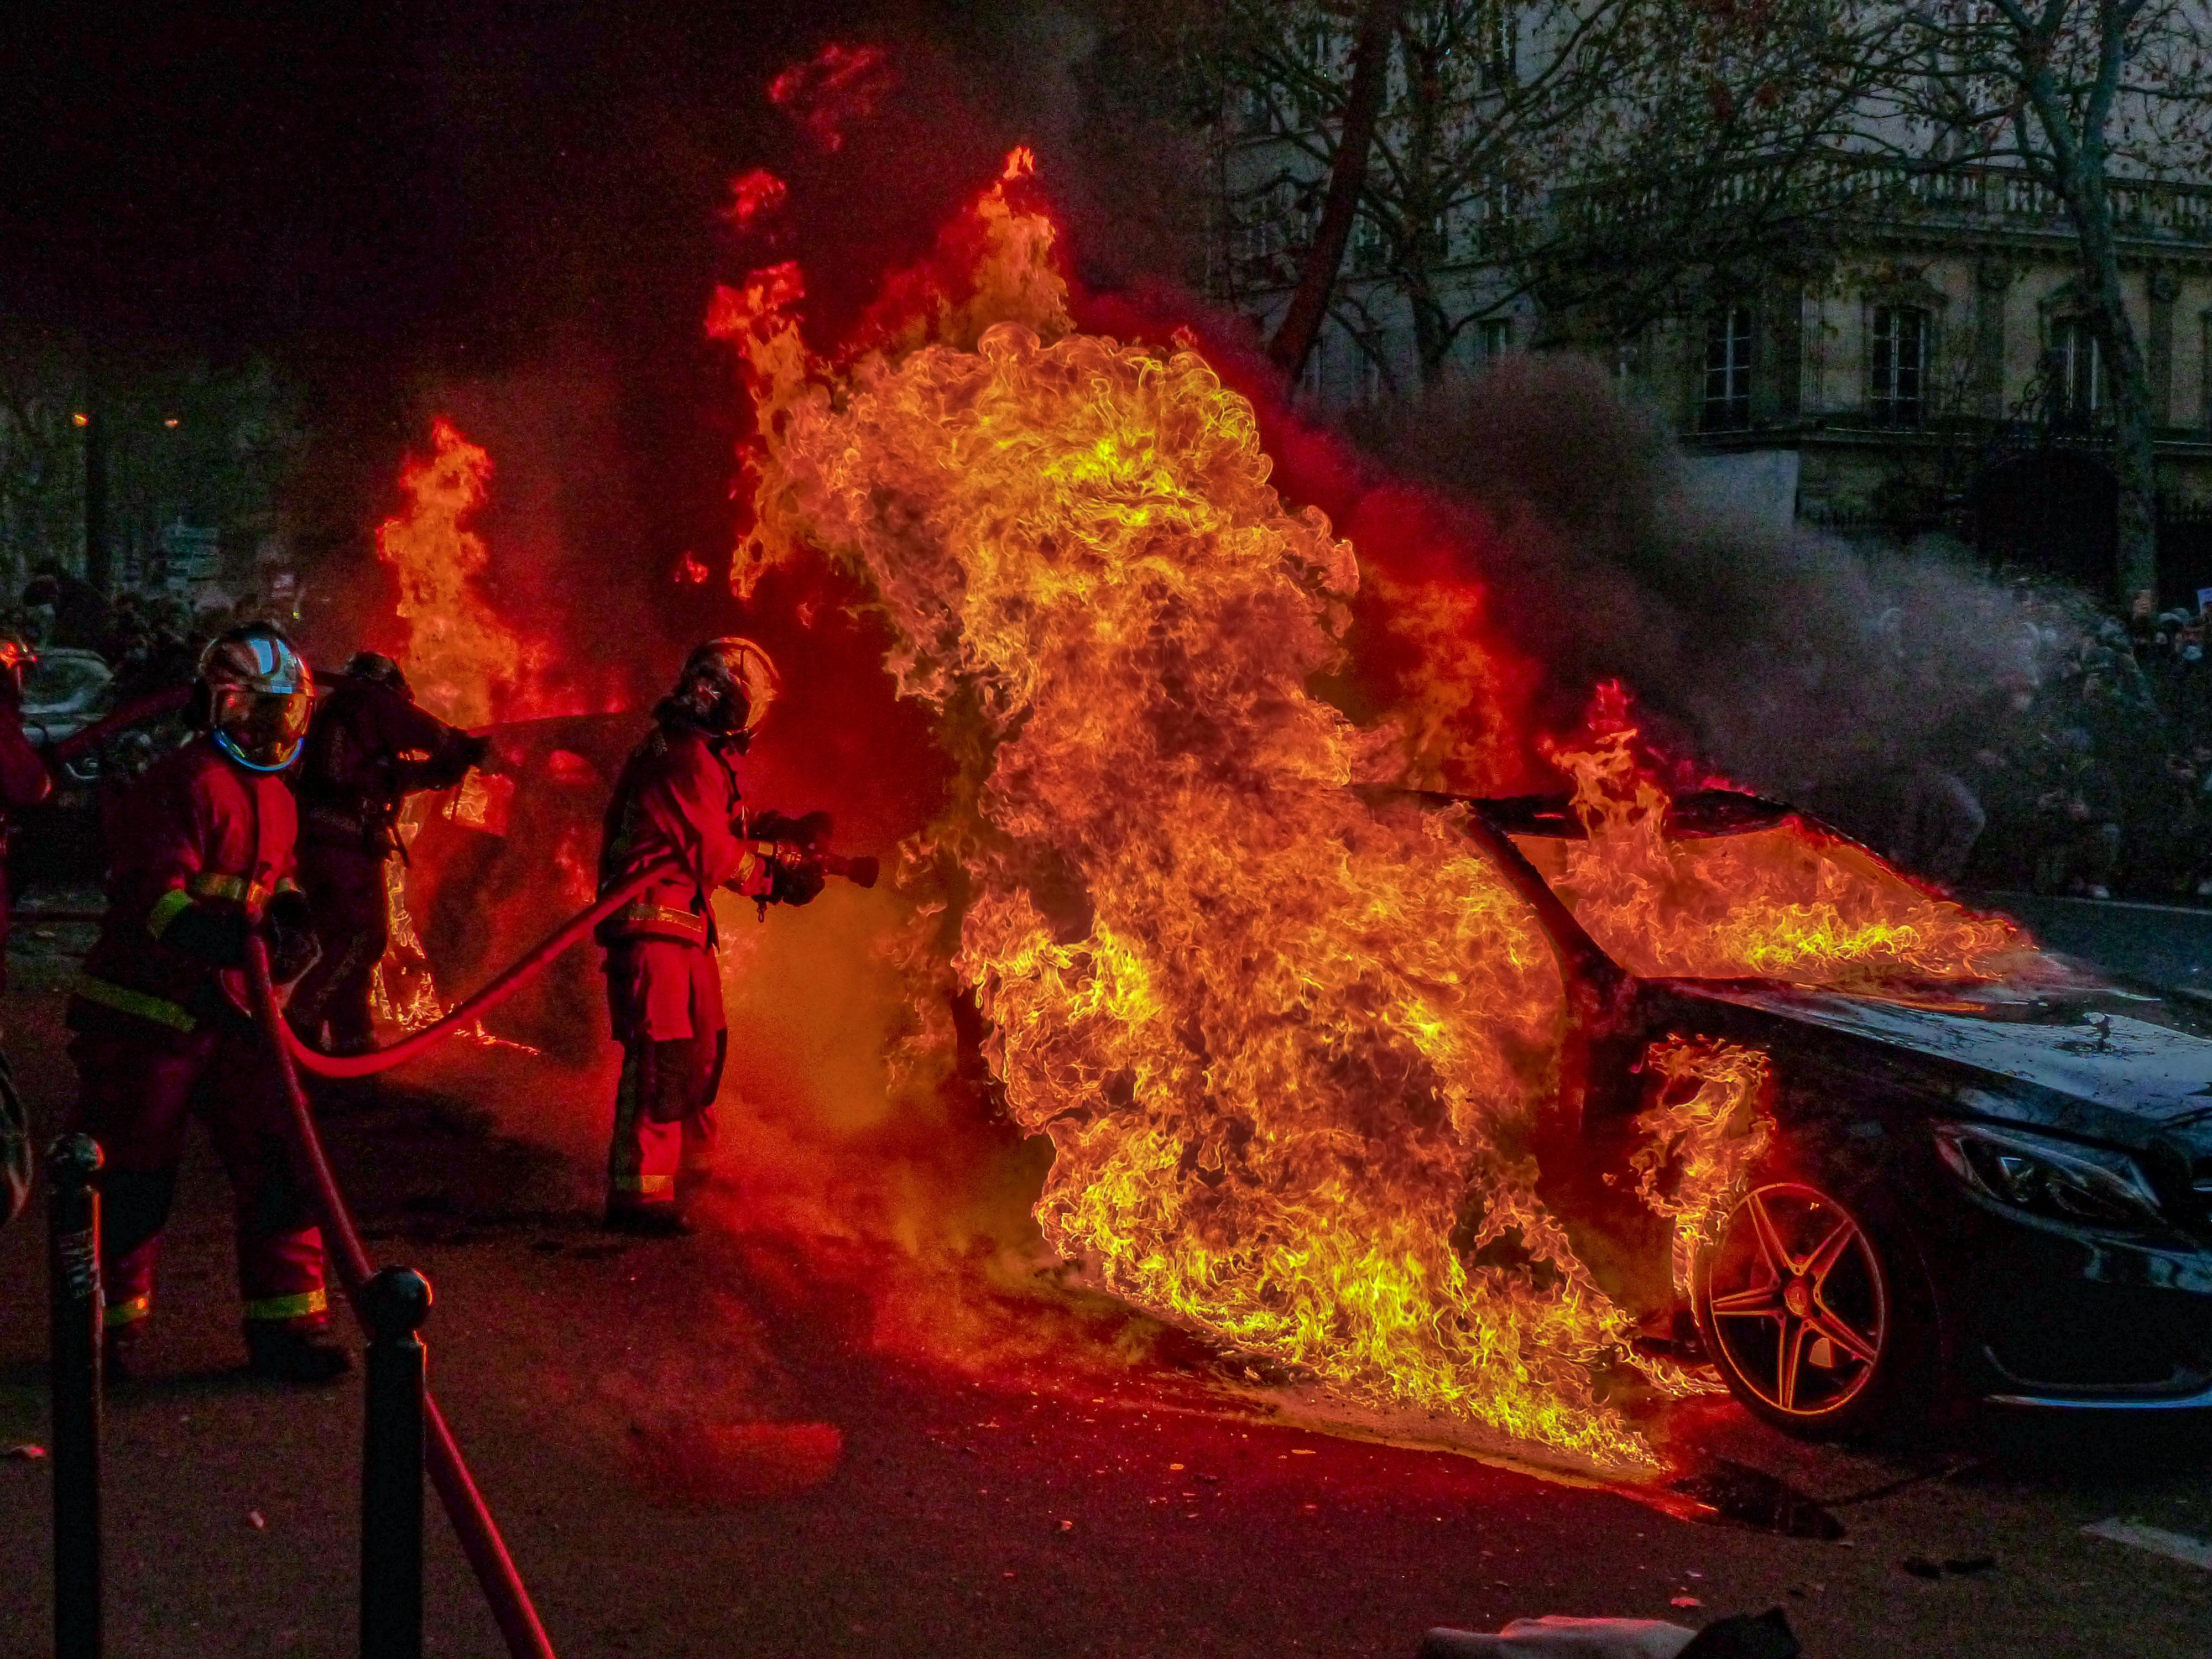smoke: (878, 324, 1536, 1457), (725, 56, 1094, 626), (1548, 678, 2047, 999), (1514, 1035, 1768, 1518), (354, 406, 634, 711), (376, 772, 601, 1065)
